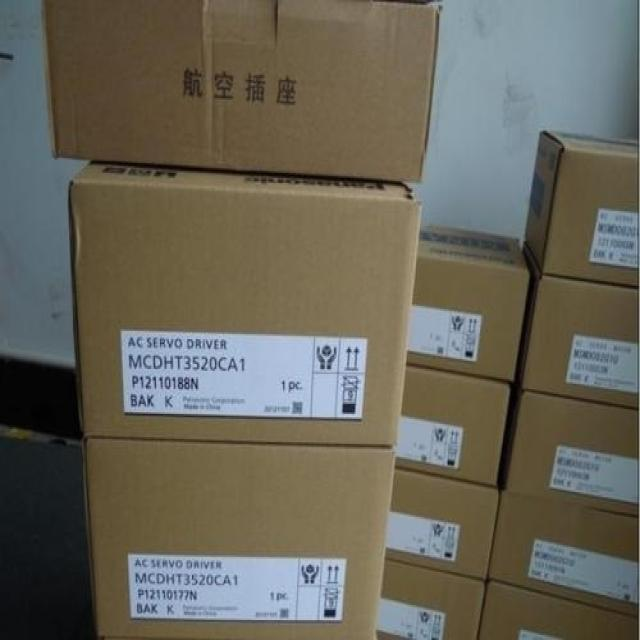box: (68, 155, 424, 443), (42, 1, 441, 184), (81, 438, 398, 635), (515, 231, 639, 409), (488, 488, 639, 620), (410, 220, 529, 385), (522, 131, 639, 286), (501, 384, 639, 514), (398, 361, 511, 487), (385, 466, 501, 582), (478, 578, 639, 638), (378, 560, 489, 638)
